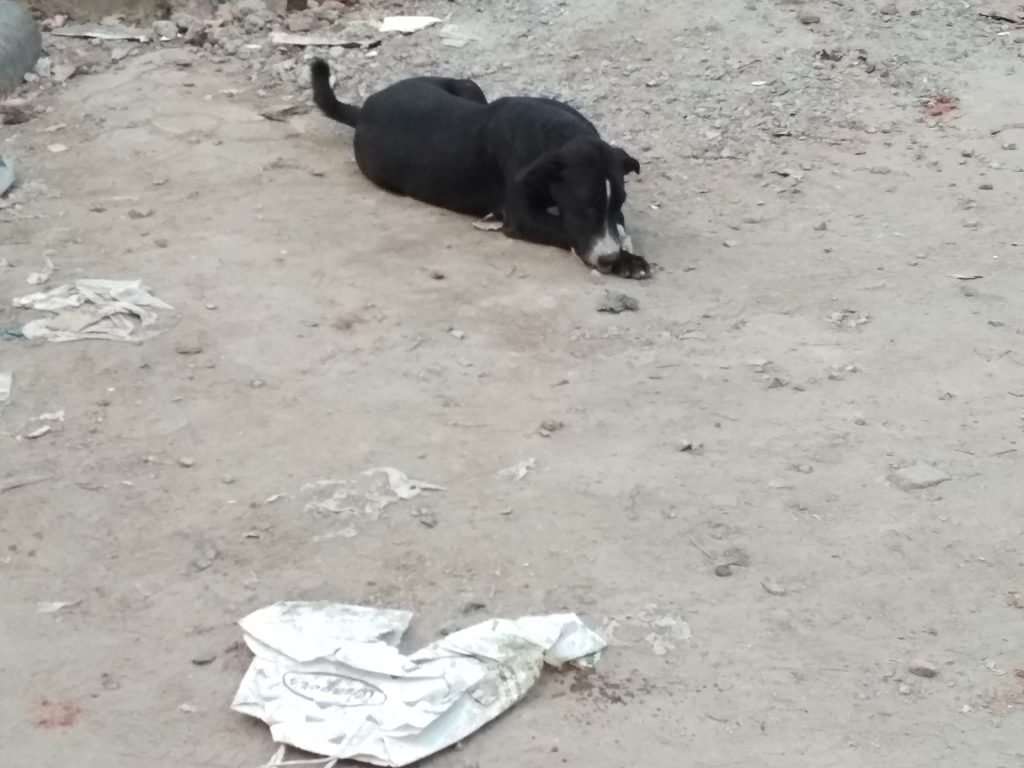dog: (312, 58, 655, 279)
